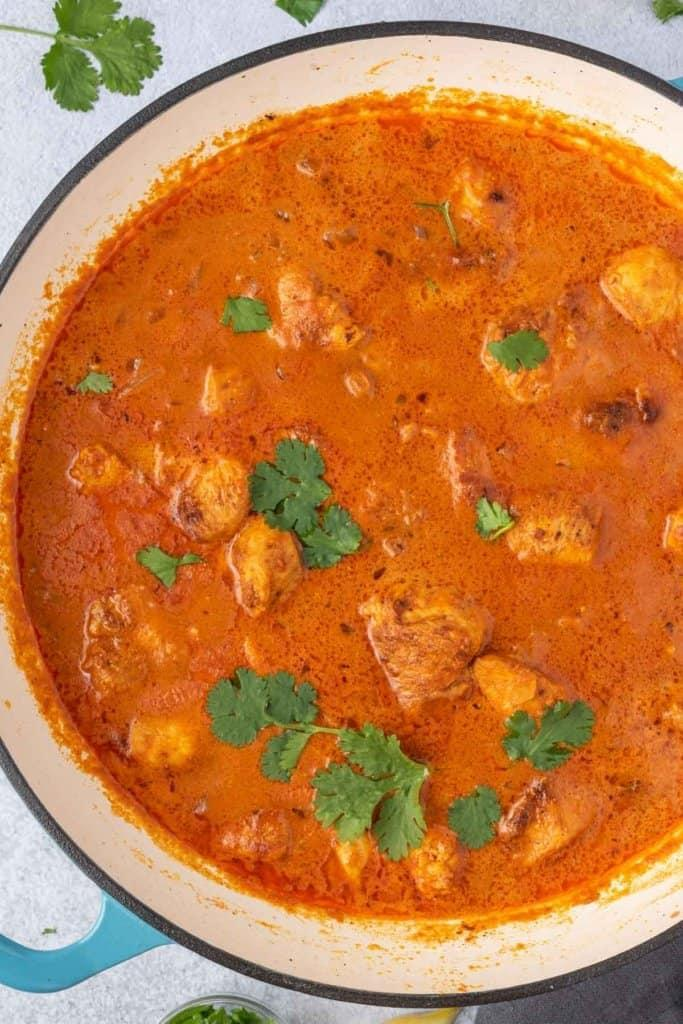chicken: (10, 76, 680, 940)
